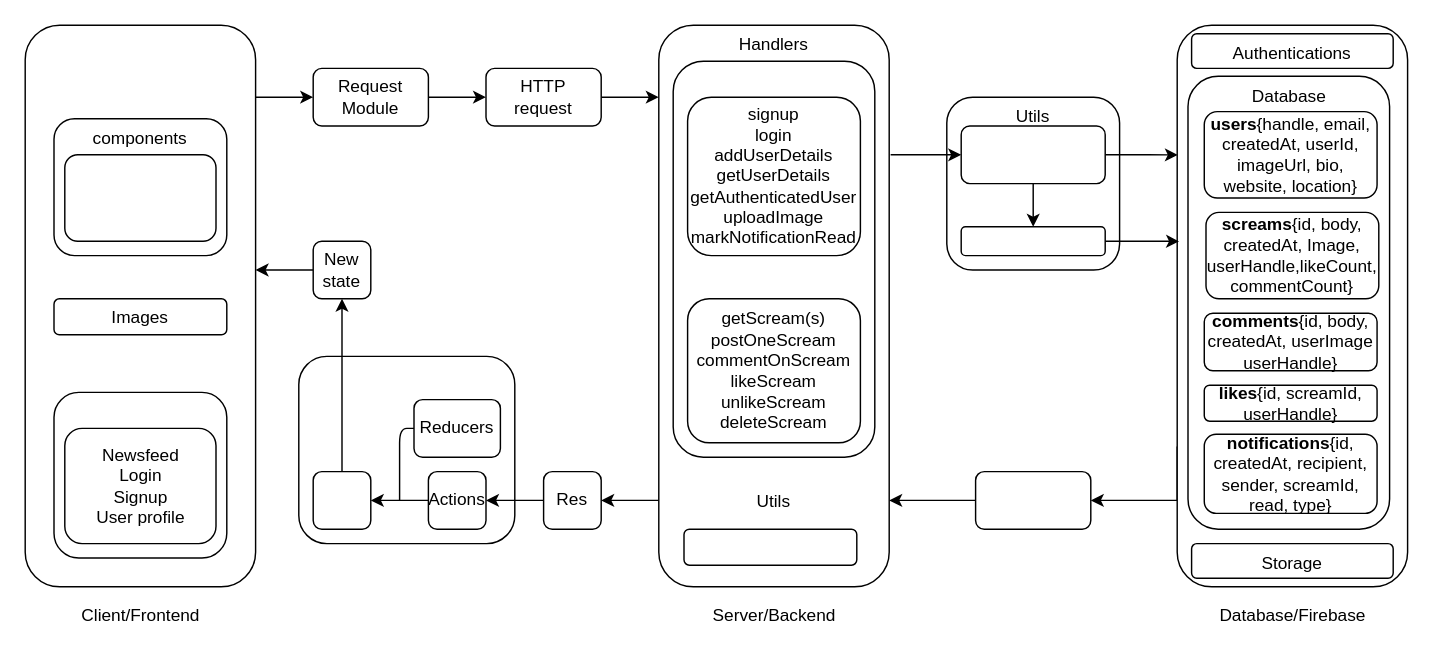
Image size: 1433x655. Some labels were removed from this diagram. Each missing label, with the box of its shape:
Admin Config: (960, 125, 1105, 184)
fbAuth: (960, 225, 1105, 256)
Layout Profile Scream: (63, 153, 216, 241)
Pages: (53, 391, 227, 558)
Redux: (297, 355, 515, 544)
Response (data): (974, 470, 1091, 529)
Store: (312, 470, 371, 529)
User Interface: (24, 24, 256, 587)
User Screams: (672, 60, 875, 457)
validators: (683, 528, 857, 565)
